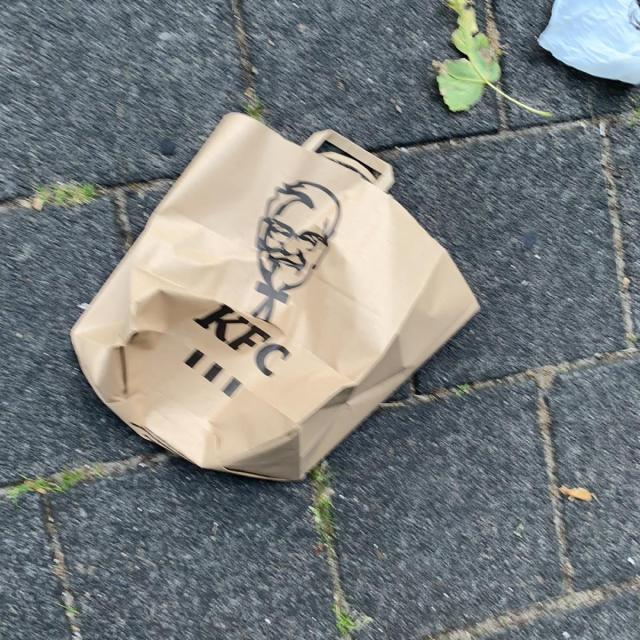Paper: (68, 110, 485, 486), (532, 0, 640, 88)
